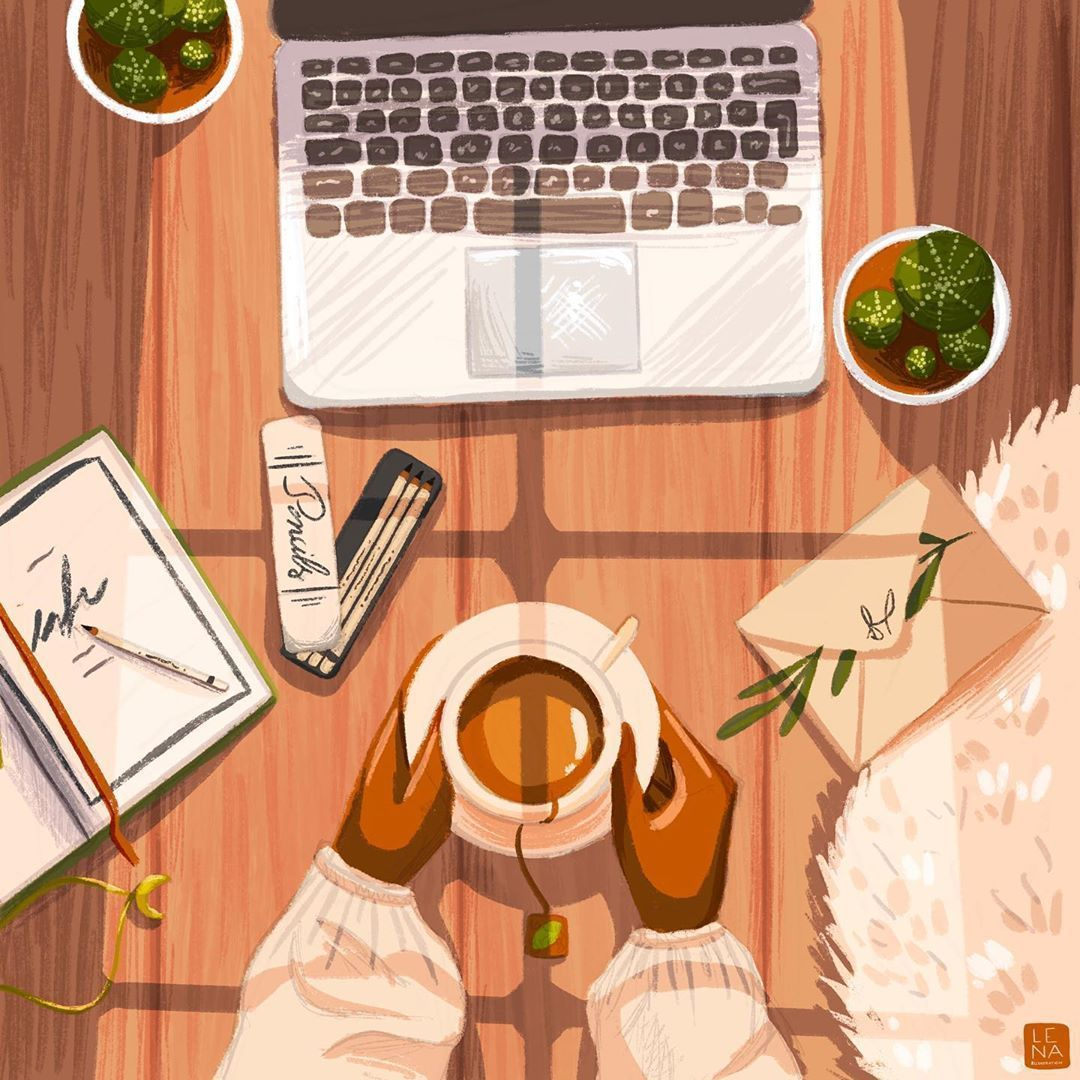not a gesture sign: (287, 111, 835, 377)
